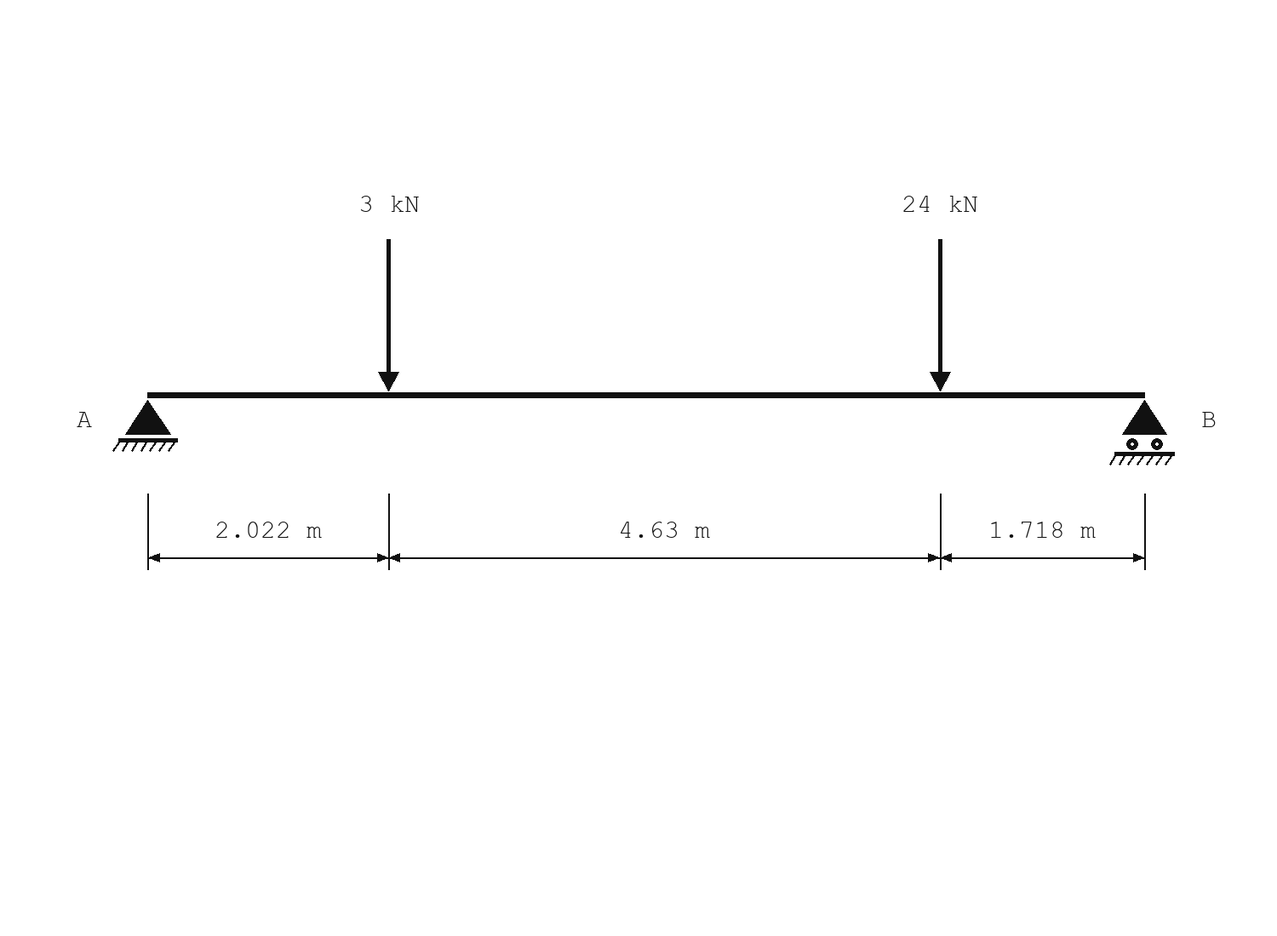pin_support: (112, 400, 178, 452)
point_load: (378, 239, 399, 391), (930, 239, 951, 391)
roller_support: (1109, 400, 1175, 465)
